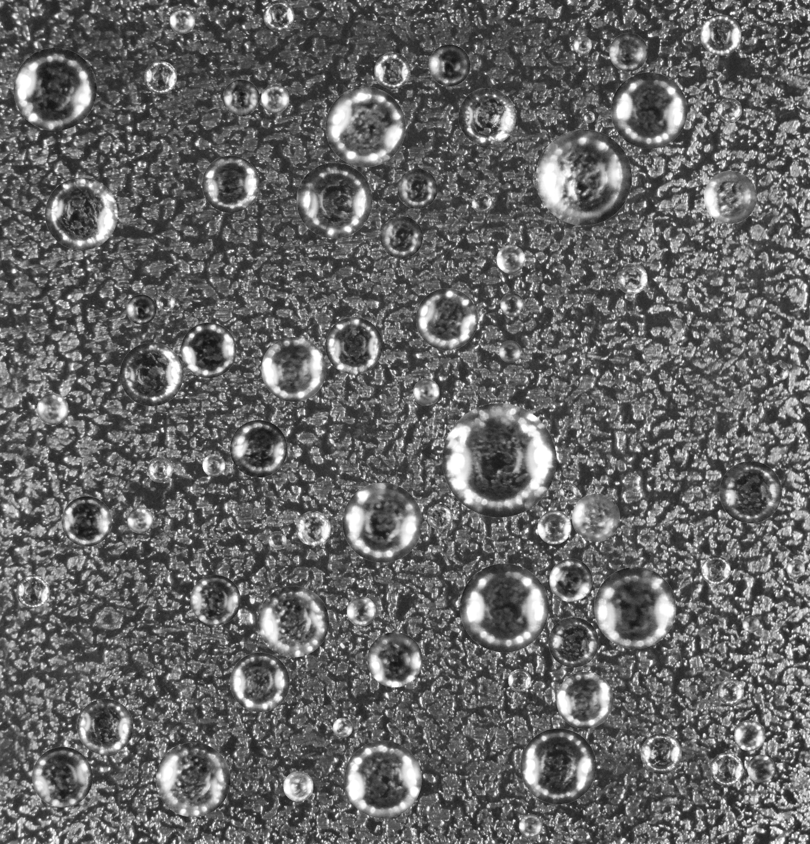Bubble: (442, 403, 556, 517), (536, 129, 631, 225), (460, 563, 548, 652), (13, 47, 96, 130), (594, 567, 676, 648), (325, 86, 405, 166), (342, 482, 422, 562), (344, 740, 421, 818), (296, 162, 372, 238), (520, 728, 596, 804), (611, 72, 687, 148), (155, 742, 230, 817), (45, 177, 117, 250), (257, 586, 328, 657), (261, 337, 326, 401), (119, 342, 183, 406), (719, 461, 781, 523), (416, 288, 477, 350), (32, 747, 92, 807), (230, 652, 289, 712), (458, 88, 516, 145), (325, 317, 382, 374), (202, 155, 259, 212), (230, 420, 287, 477), (556, 672, 613, 728), (180, 322, 236, 378), (77, 698, 133, 754), (367, 632, 422, 687), (704, 170, 756, 223), (61, 496, 111, 546), (190, 575, 240, 625), (548, 617, 598, 667), (572, 493, 620, 541), (549, 558, 592, 601), (428, 44, 470, 86), (380, 216, 422, 258), (700, 14, 741, 55), (640, 733, 681, 774), (397, 168, 437, 208), (609, 32, 647, 71), (222, 79, 259, 116), (374, 52, 410, 88), (537, 510, 571, 544), (296, 511, 330, 545), (16, 575, 49, 608), (710, 752, 743, 785), (144, 60, 176, 93), (36, 393, 68, 424), (734, 720, 765, 751), (616, 263, 647, 294), (263, 0, 294, 31), (346, 596, 376, 626), (126, 294, 156, 324), (283, 771, 313, 801), (701, 555, 730, 585), (260, 84, 289, 113), (496, 245, 524, 273), (747, 755, 775, 782), (717, 678, 744, 705), (413, 379, 439, 405), (127, 507, 153, 533), (427, 503, 452, 529), (169, 8, 195, 33), (147, 457, 172, 482), (717, 98, 742, 122), (500, 293, 524, 316), (519, 814, 542, 837), (508, 669, 531, 692), (202, 454, 225, 476), (499, 340, 521, 362), (471, 192, 492, 212), (332, 718, 352, 737), (156, 292, 175, 311), (770, 361, 789, 380), (786, 559, 805, 577), (573, 35, 591, 54), (268, 531, 286, 549), (559, 483, 577, 501), (742, 615, 759, 632), (583, 111, 595, 122)
